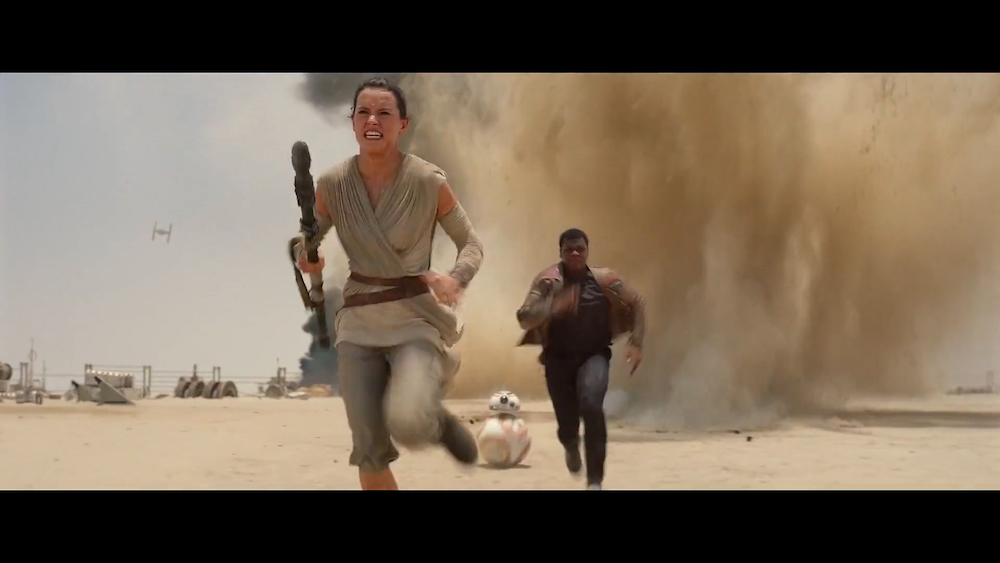Tie Fighter: (153, 222, 173, 245)
